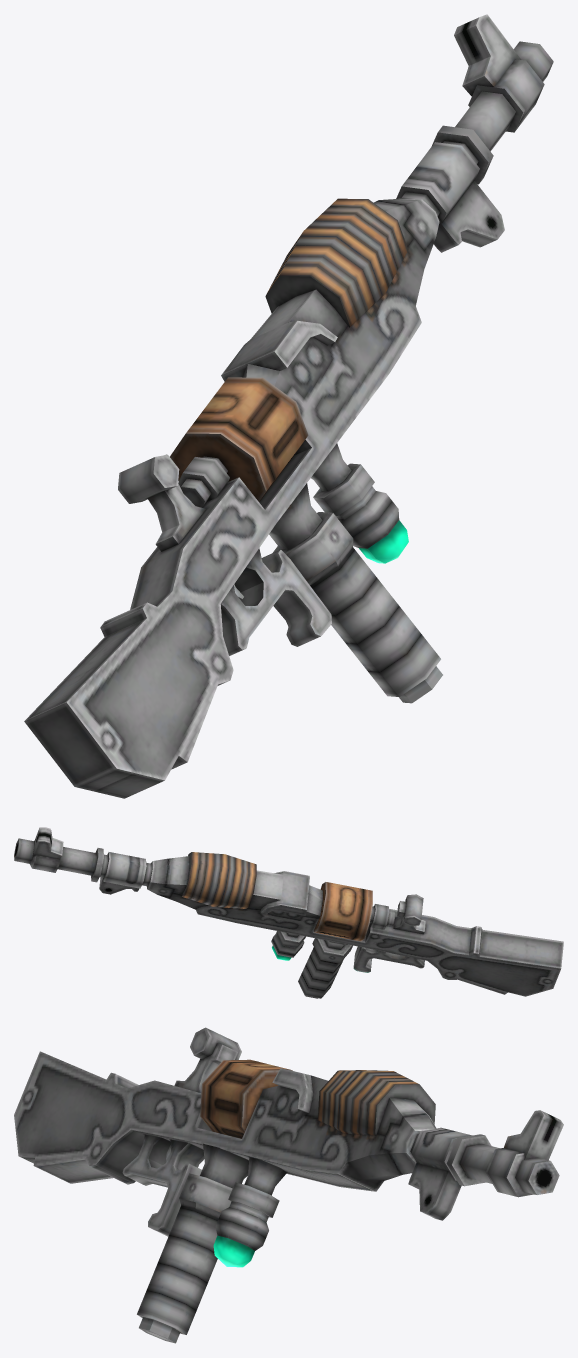
3 renders of one model, top to bottom at view 1: azimuth 30°, elevation 25°; view 2: azimuth 150°, elevation 25°; view 3: azimuth 270°, elevation 25°, orthographic. The views are drawn at different scales.
Visible parts, largest first — view 1: Radium carbine | extracted main weapon; view 2: Radium carbine | extracted main weapon; view 3: Radium carbine | extracted main weapon.
Part boxes in pixels (bbox=[...]): Radium carbine | extracted main weapon: bbox=[24, 14, 553, 798]; Radium carbine | extracted main weapon: bbox=[14, 827, 563, 998]; Radium carbine | extracted main weapon: bbox=[14, 1027, 563, 1343].
Bounding box in the file's own units: 1.99 × 1.03 × 1.45.
1 material, 1 textured.
